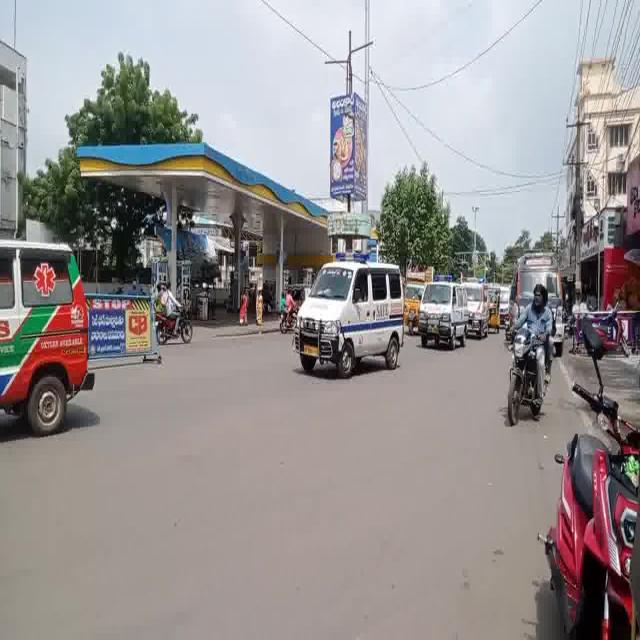ambulance: (0, 236, 96, 424), (291, 259, 404, 378), (420, 280, 468, 350), (515, 256, 563, 291)
